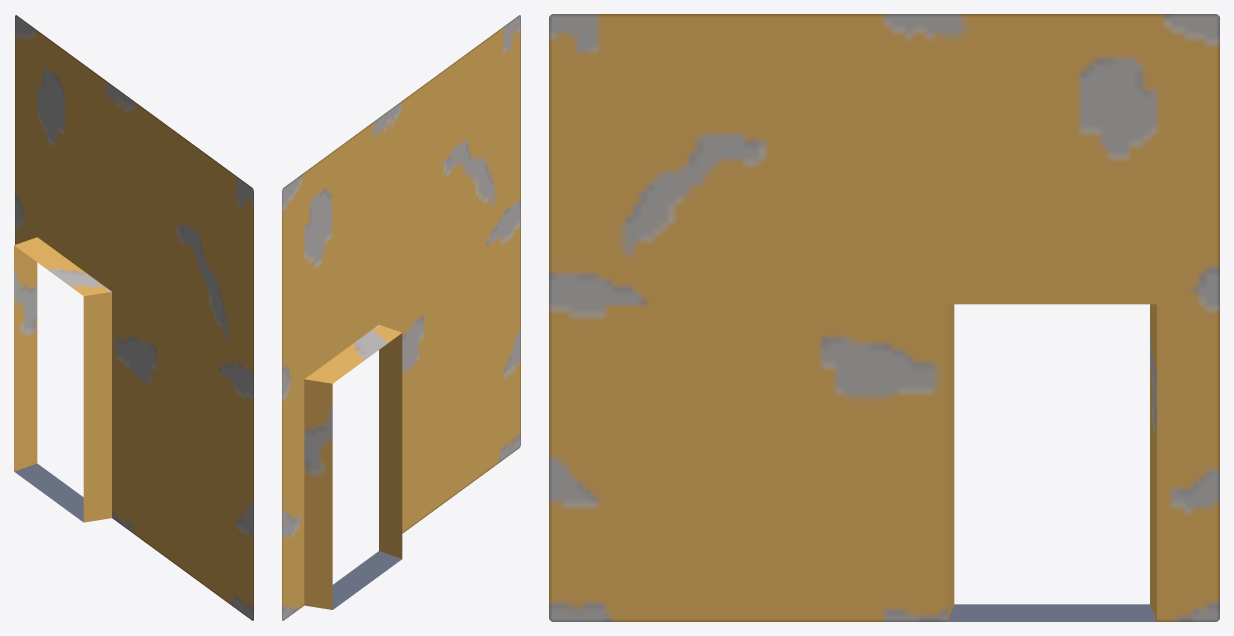
The model's file is ParedPuertaNaranja2.fbx.
3 renders of one model, left to right at view 1: azimuth 30°, elevation 25°; view 2: azimuth 150°, elevation 25°; view 3: azimuth 270°, elevation 25°, orthographic. The views are drawn at different scales.
Parts seen in each view (by area): view 1: Pared + puerta 2; view 2: Pared + puerta 2; view 3: Pared + puerta 2.
Boxes of the visible parts, x1,y1,x2,y2 form: Pared + puerta 2: (14,15,253,620); Pared + puerta 2: (282,15,520,620); Pared + puerta 2: (549,14,1219,621).
Bounding box in the file's own units: 18.75 × 300 × 300.
1 material, 1 textured.
